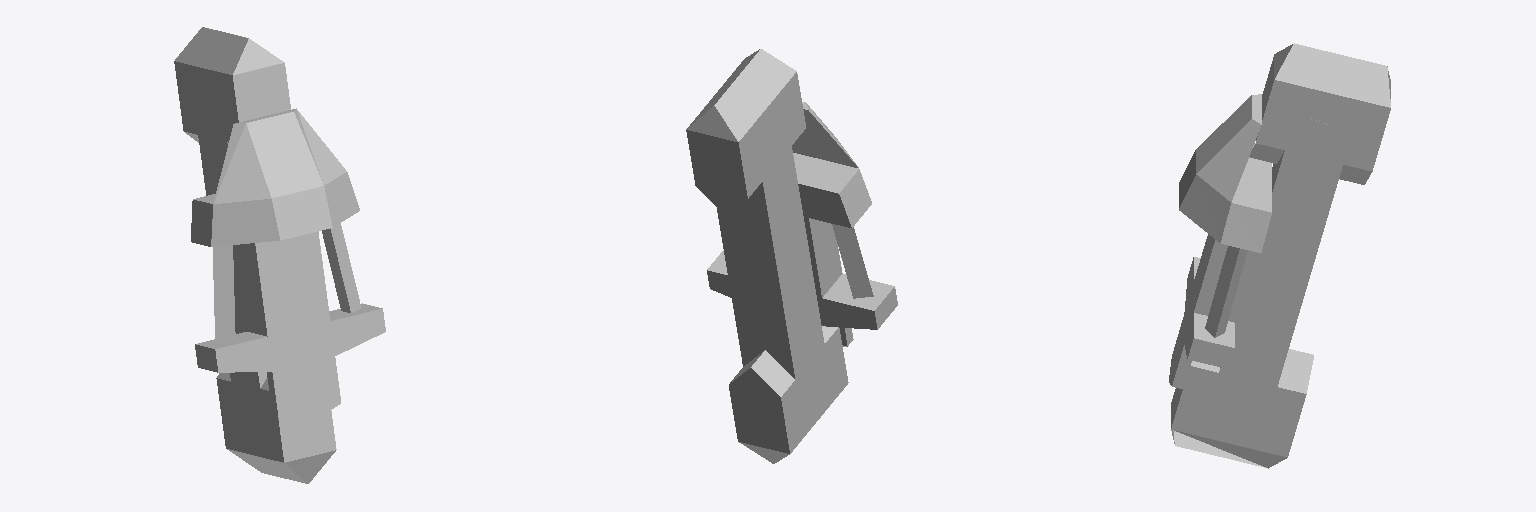
The model's file is jaller_uleg.obj.
3 views of the same model, side by side, from view 1: azimuth 30°, elevation 25°; view 2: azimuth 150°, elevation 25°; view 3: azimuth 270°, elevation 25° (orthographic).
Visible parts, largest first — view 1: jaller.bh_jaller_reference.smd.mesh_0.005_jaller.bh_jaller_refer; view 2: jaller.bh_jaller_reference.smd.mesh_0.005_jaller.bh_jaller_refer; view 3: jaller.bh_jaller_reference.smd.mesh_0.005_jaller.bh_jaller_refer.
Part boxes in pixels (bbox=[...]): jaller.bh_jaller_reference.smd.mesh_0.005_jaller.bh_jaller_refer: bbox=[174, 27, 385, 483]; jaller.bh_jaller_reference.smd.mesh_0.005_jaller.bh_jaller_refer: bbox=[686, 49, 897, 463]; jaller.bh_jaller_reference.smd.mesh_0.005_jaller.bh_jaller_refer: bbox=[1169, 43, 1390, 468].
Bounding box in the file's own units: 8.1 × 19.62 × 9.31.